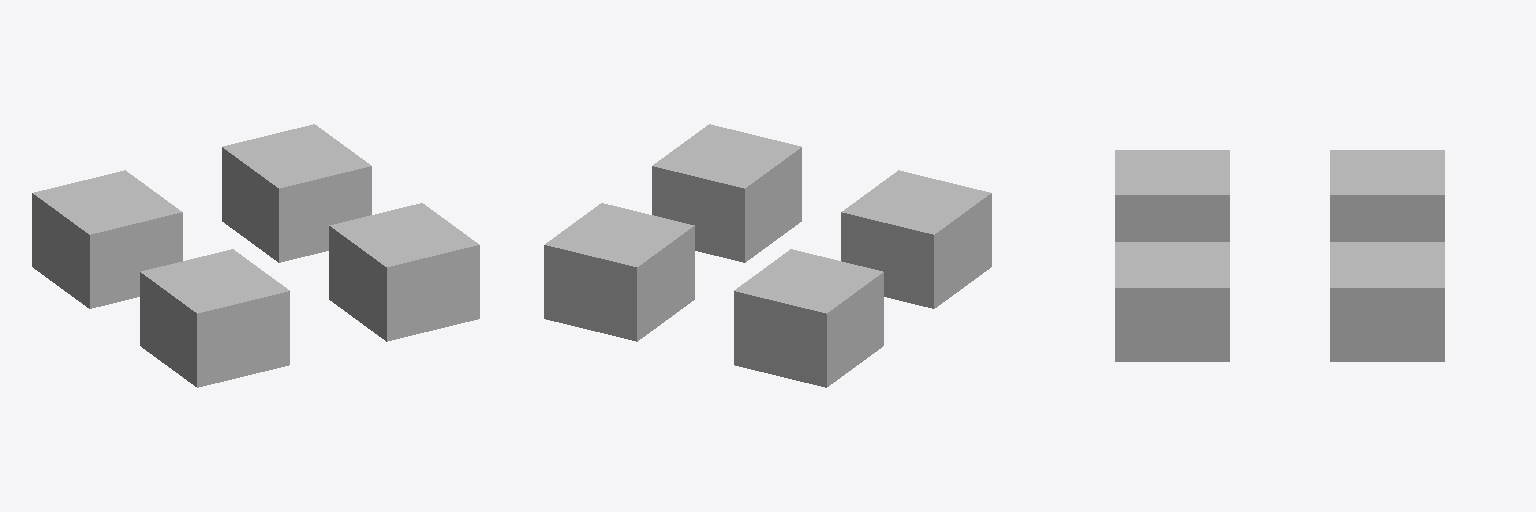
Rendered from CenterMaze.obj.
3 renders of one model, left to right at view 1: azimuth 30°, elevation 25°; view 2: azimuth 150°, elevation 25°; view 3: azimuth 270°, elevation 25°, orthographic.
Parts seen in each view (by area): view 1: Cube.001; view 2: Cube.001; view 3: Cube.001.
Boxes of the visible parts, x1,y1,x2,y2 form: Cube.001: [32, 124, 479, 387]; Cube.001: [544, 124, 991, 387]; Cube.001: [1115, 150, 1444, 361].
Size of the model in its own units: 25.98 by 6.52 by 26.27.